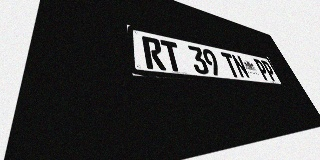3: (187, 45, 210, 75)
9: (201, 48, 223, 76)
N: (231, 54, 251, 79)
P: (253, 58, 271, 81), (261, 60, 278, 81)
R: (141, 36, 166, 70)
T: (160, 39, 184, 72), (220, 52, 241, 78)
